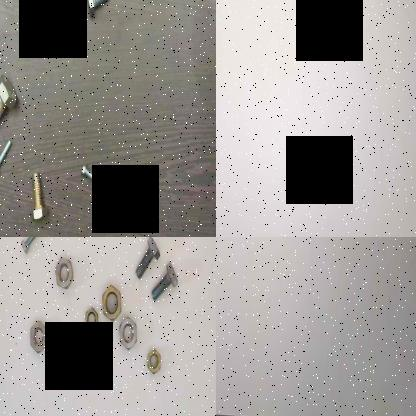Bolts: (30, 0, 77, 44), (149, 256, 178, 304), (133, 237, 161, 278), (27, 170, 49, 221), (0, 71, 16, 136), (77, 160, 105, 194), (16, 237, 45, 256), (0, 133, 10, 177), (84, 0, 112, 15)
NUTS: (96, 281, 122, 325), (26, 318, 49, 352), (117, 314, 137, 350), (52, 255, 73, 287), (82, 304, 100, 334), (146, 343, 162, 375)
